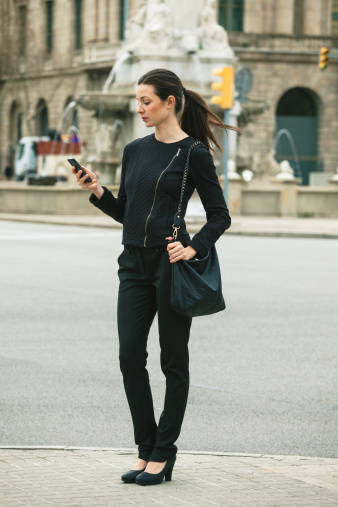em pe: (70, 54, 229, 488)
